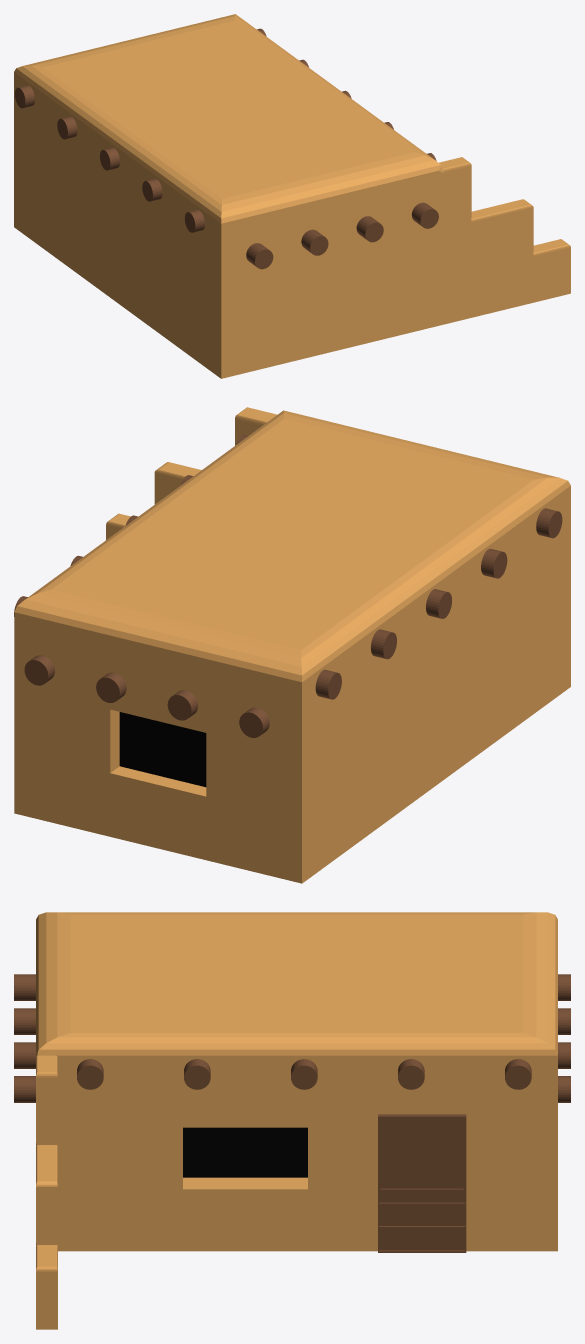
The model's file is AdobeHouse1.fbx.
The picture shows the model from 3 angles, top to bottom: view 1: azimuth 30°, elevation 25°; view 2: azimuth 150°, elevation 25°; view 3: azimuth 270°, elevation 25°; orthographic projection. The views are drawn at different scales.
Parts seen in each view (by area): view 1: Cylinder.001; view 2: Cylinder.001; view 3: Cylinder.001.
Boxes of the visible parts, box(x1,y1,x2,y2) form: Cylinder.001: box(14, 14, 570, 378); Cylinder.001: box(14, 407, 570, 883); Cylinder.001: box(14, 912, 570, 1329).
Bounding box in the file's own units: 1186 × 524 × 1264.
